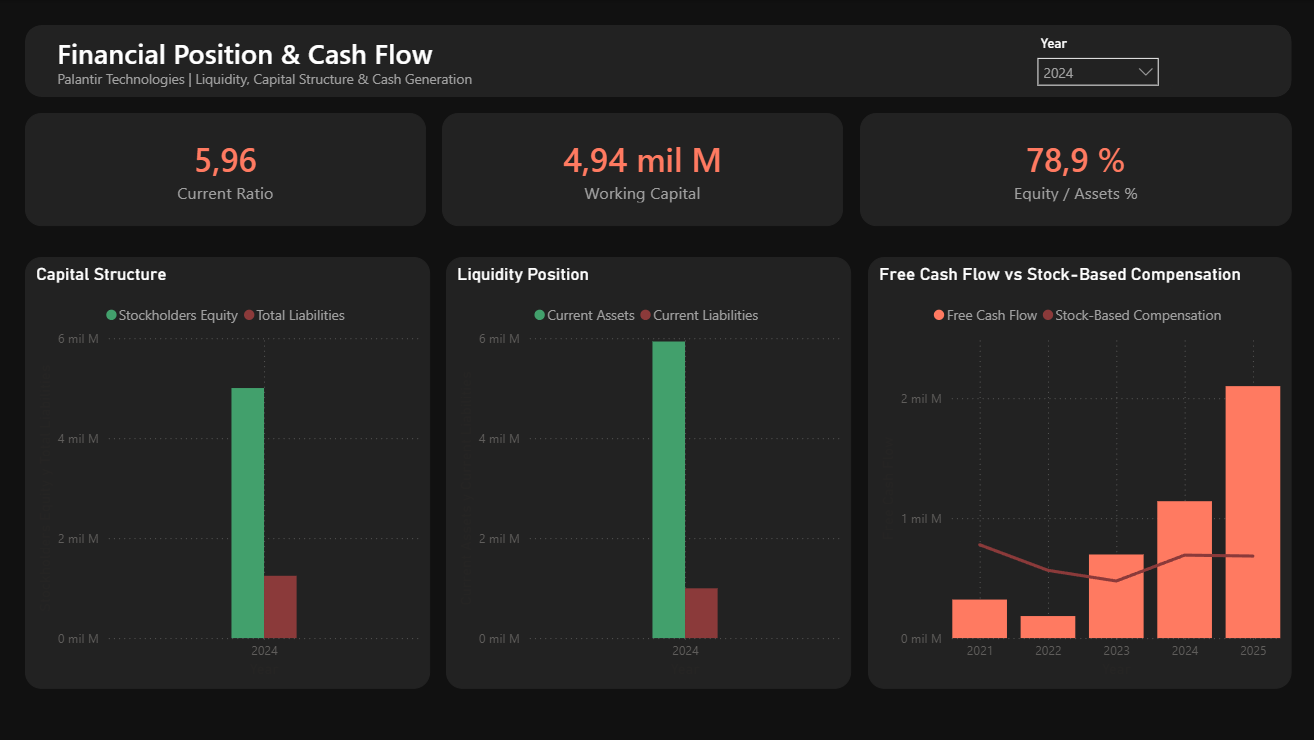

The dashboard page shown, as its layout file describes it:
{"tool":"powerbi","page":{"name":"Financial Position & Cash Flow","canvas":[1280,720],"ordinal":2},"visuals":[{"type":"shape","box":[24,24,1232,70],"z":0},{"type":"textbox","box":[51,28,620,50],"z":1000},{"type":"textbox","box":[51,62,620,28],"z":2000},{"type":"slicer","fields":{"Values":["Dim_Year.Year"]},"box":[994,24.3,148,66.1],"z":3000},{"type":"cardVisual","fields":{"Data":["Medidas.Current Ratio"]},"box":[24,110,390,110],"z":6000},{"type":"cardVisual","fields":{"Data":["Medidas.Working Capital"]},"box":[430,110,390,110],"z":11001},{"type":"cardVisual","fields":{"Data":["Medidas.Equity / Assets %"]},"box":[836.5,109.9,420.2,109.9],"z":11002},{"type":"clusteredColumnChart","title":"Capital Structure ","fields":{"Category":["Dim_Year.Year"],"Y":["Medidas.Stockholders Equity","Medidas.Total Liabilities"]},"box":[24,250,394,420],"z":11003},{"type":"clusteredColumnChart","title":"Liquidity Position","fields":{"Category":["Dim_Year.Year"],"Y":["Medidas.Current Assets","Medidas.Current Liabilities"]},"box":[434,250,394,420],"z":11004},{"type":"lineClusteredColumnComboChart","title":"Free Cash Flow vs Stock-Based Compensation ","fields":{"Category":["Dim_Year.Year"],"Y":["Medidas.Free Cash Flow"],"Y2":["Medidas.Stock-Based Compensation"]},"box":[844,250,412,420],"z":11005}]}

Visuals, with their boxes in screenshot pixels (x1, y1, x2, y2), scaled from the page's 1280x720 canvas onto the 1314x740 screenshot:
shape: (25,25,1289,97)
textbox: (52,29,689,80)
textbox: (52,64,689,92)
slicer - Dim_Year.Year: (1020,25,1172,93)
cardVisual - Medidas.Current Ratio: (25,113,425,226)
cardVisual - Medidas.Working Capital: (441,113,842,226)
cardVisual - Medidas.Equity / Assets %: (859,113,1290,226)
"Capital Structure " clusteredColumnChart: (25,257,429,689)
"Liquidity Position" clusteredColumnChart: (446,257,850,689)
"Free Cash Flow vs Stock-Based Compensation " lineClusteredColumnComboChart: (866,257,1289,689)
